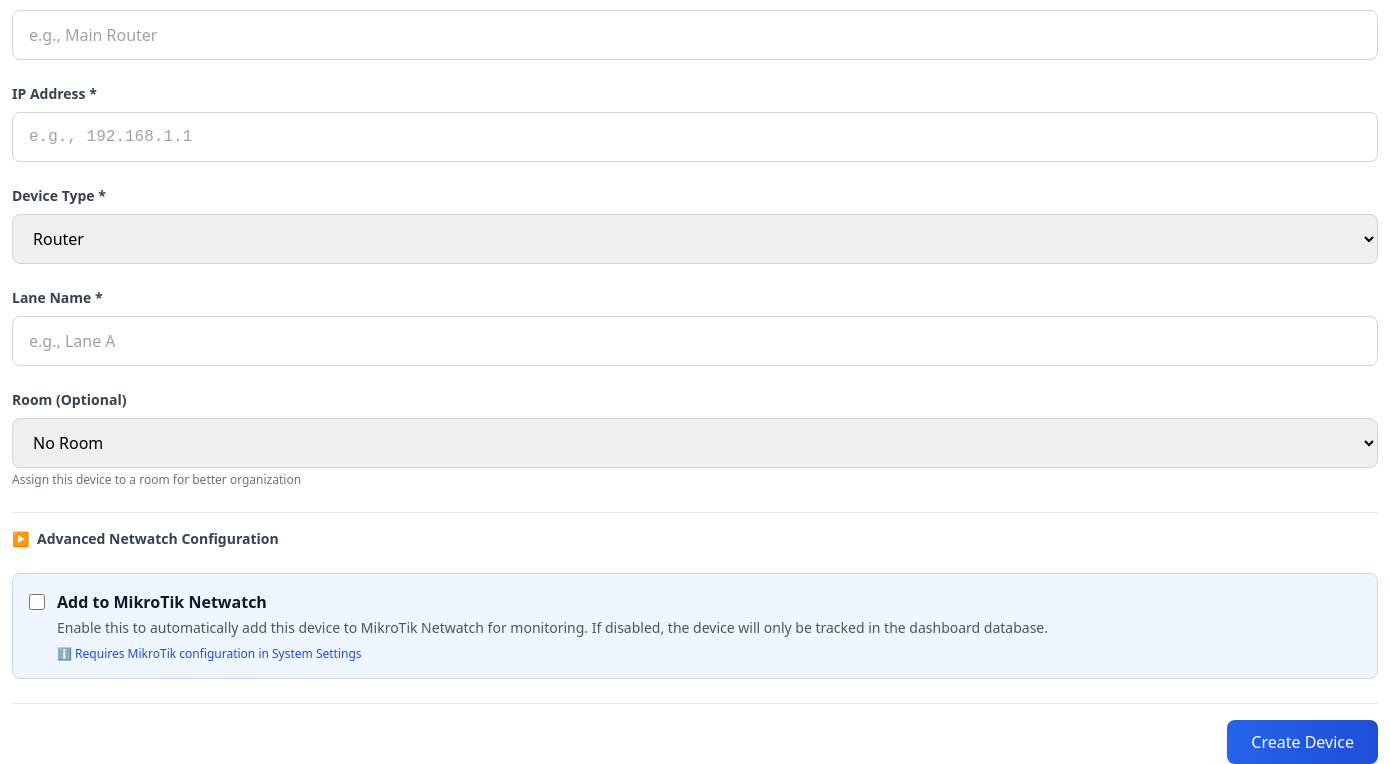
it: DeviceForm Validation › should show validation error when name is empty
(page scrolled)
Click the button "Create Device": (1303, 742) 1227,720 -> 1378,763
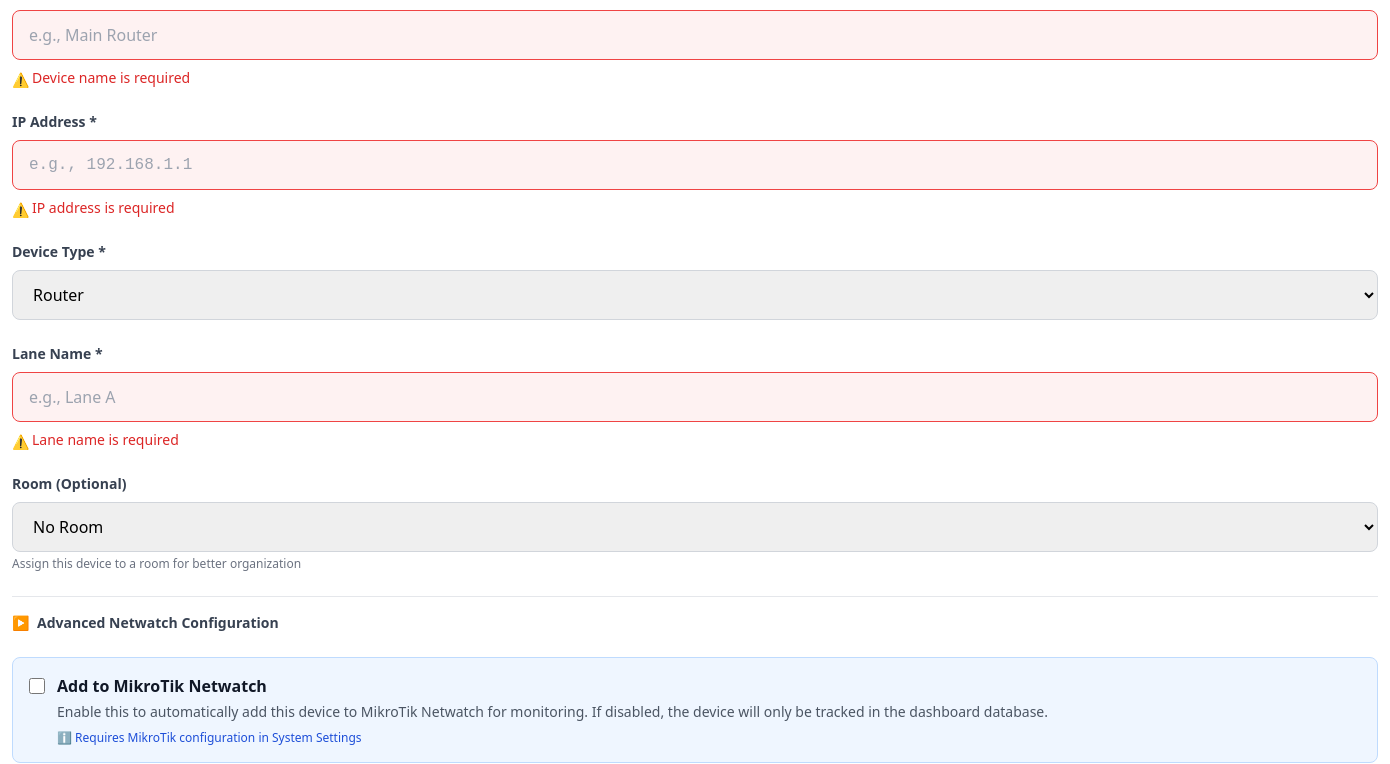
Expected: the text "Device name is required" is shown, 32,68 -> 190,87
